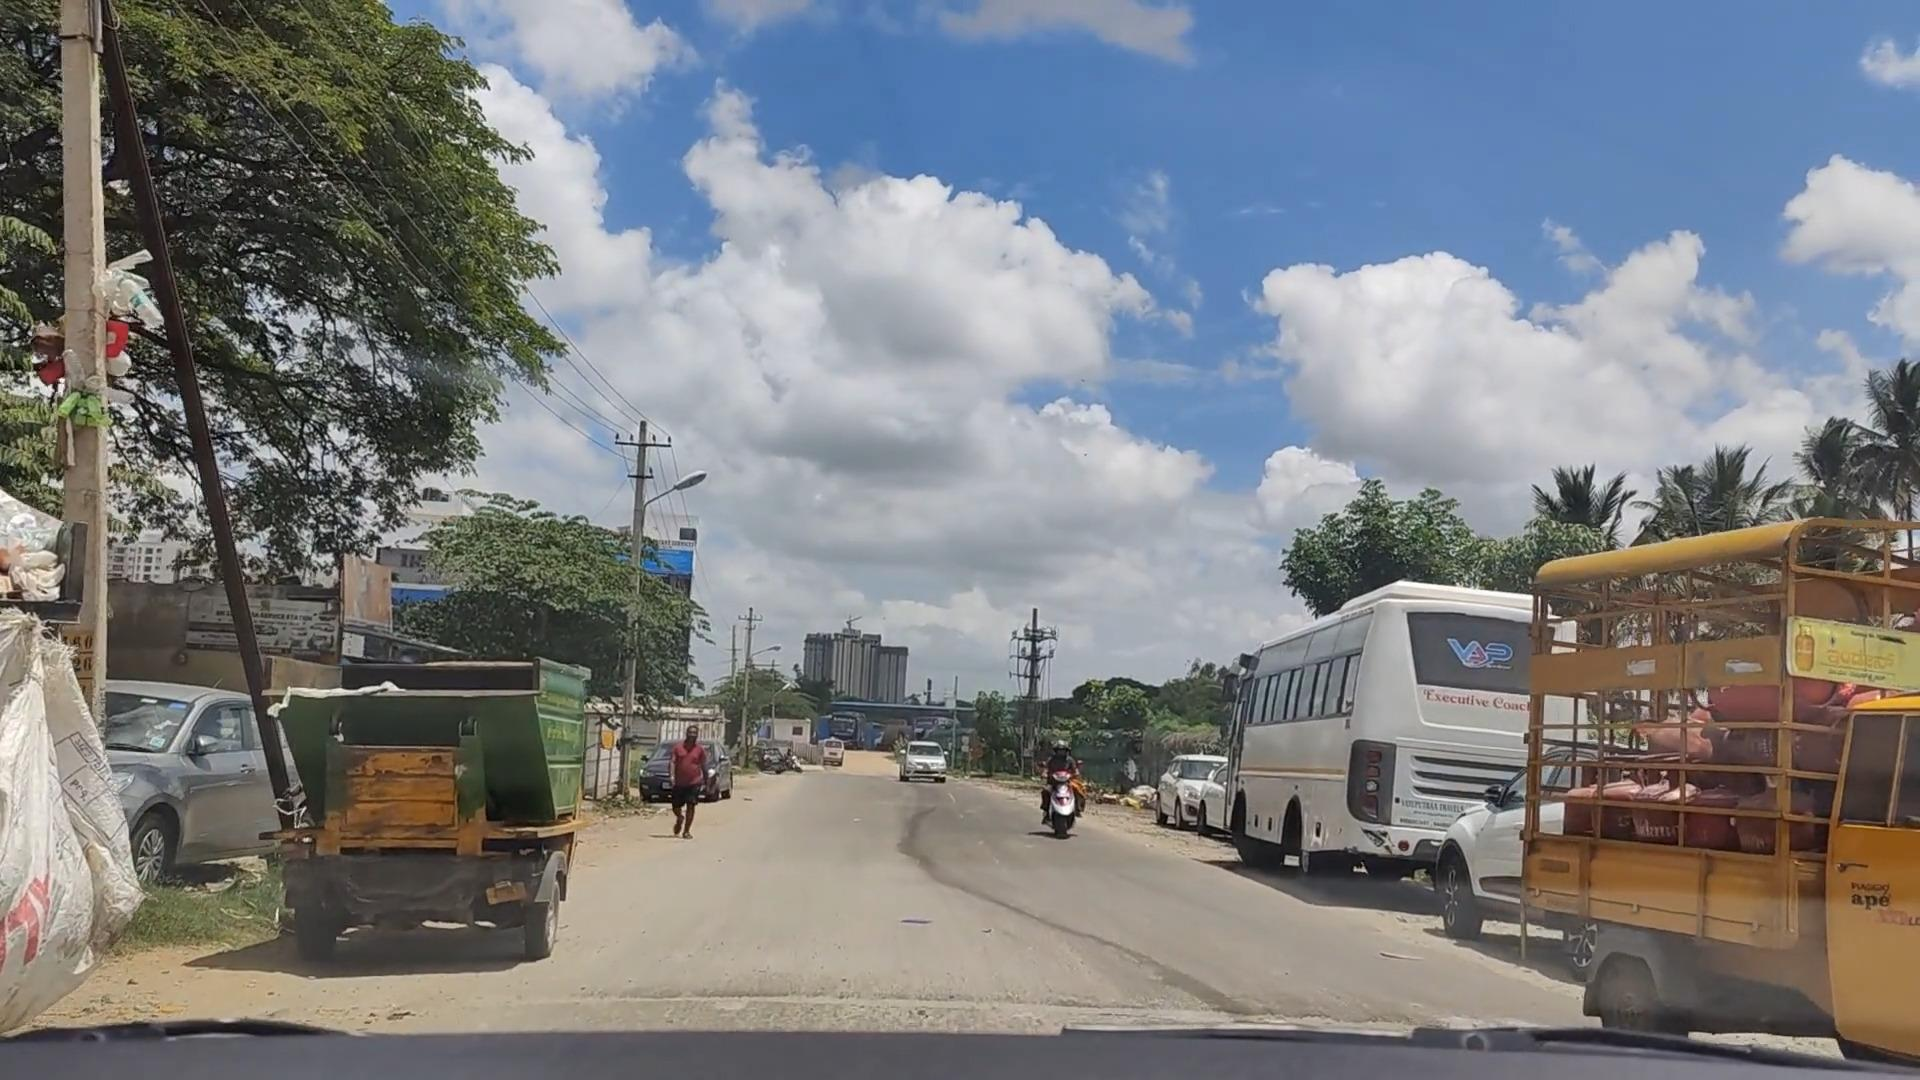HMV: (1520, 558, 1920, 1080), (256, 647, 601, 986)
RoadDamages: (663, 982, 1383, 1036)
